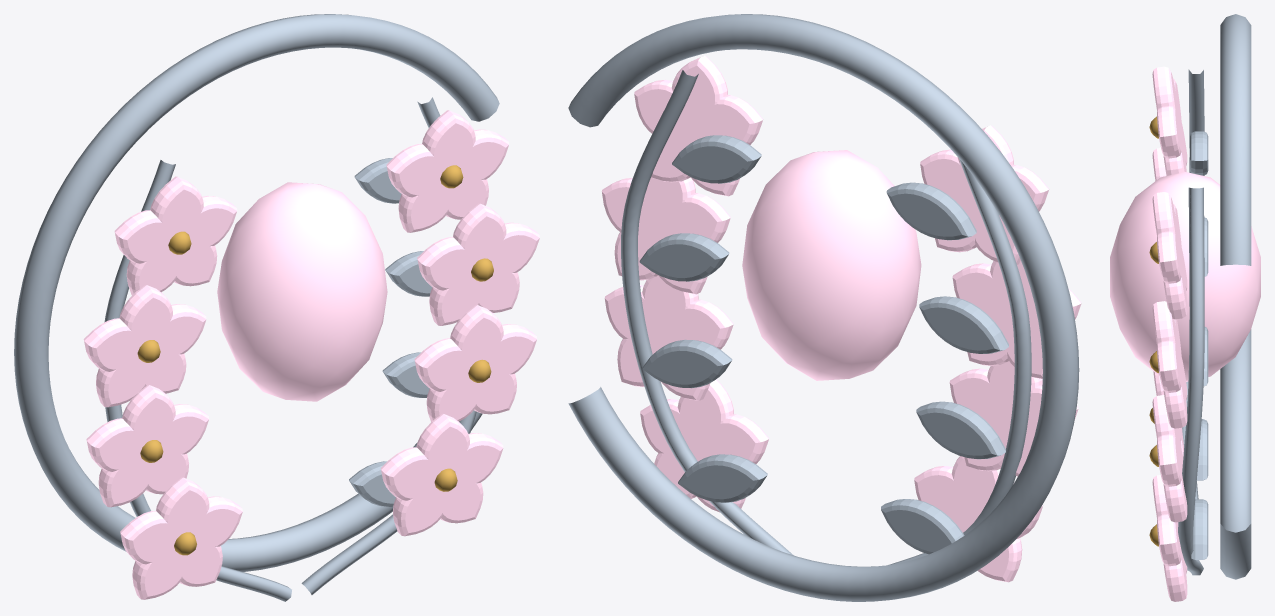
3 renders of one model, left to right at view 1: azimuth 30°, elevation 25°; view 2: azimuth 150°, elevation 25°; view 3: azimuth 270°, elevation 25°, orthographic. The views are drawn at different scales.
Visible parts, largest first — view 1: ASTRAVA C; view 2: ASTRAVA C; view 3: ASTRAVA C.
Boxes of the visible parts, x1=… form: ASTRAVA C: x1=14, y1=14, x2=539, y2=601; ASTRAVA C: x1=568, y1=14, x2=1081, y2=601; ASTRAVA C: x1=1110, y1=14, x2=1260, y2=601.
Size of the model in its own units: 2.42 by 2.67 by 0.6895.
